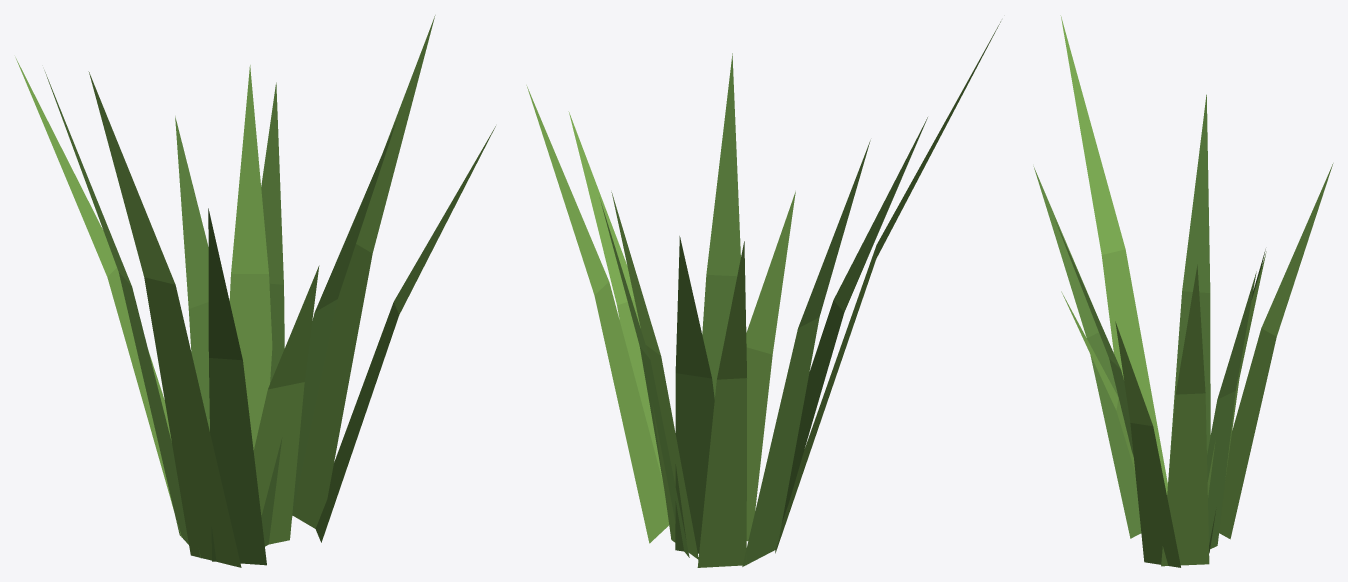
File: grass_05.glb
3 views of the same model, side by side, from view 1: azimuth 30°, elevation 25°; view 2: azimuth 150°, elevation 25°; view 3: azimuth 270°, elevation 25° (orthographic). The views are drawn at different scales.
Visible parts, largest first — view 1: 草_05; view 2: 草_05; view 3: 草_05.
Boxes of the visible parts, x1=… form: 草_05: x1=15, y1=15, x2=495, y2=567; 草_05: x1=526, y1=21, x2=1000, y2=567; 草_05: x1=1033, y1=15, x2=1333, y2=567.
Size of the model in its own units: 0.5628 by 0.7053 by 0.4352.
